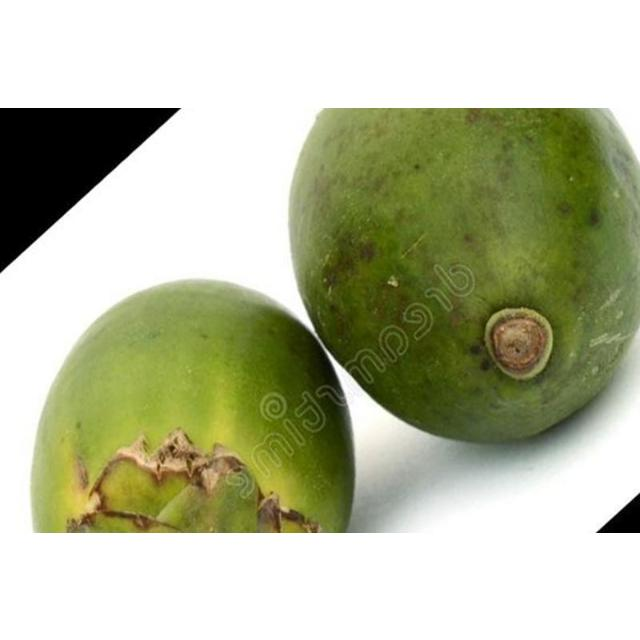good: (287, 107, 639, 444), (28, 278, 357, 532)
